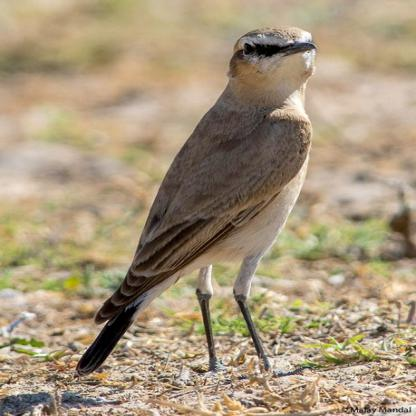Burung: (63, 26, 322, 381)
